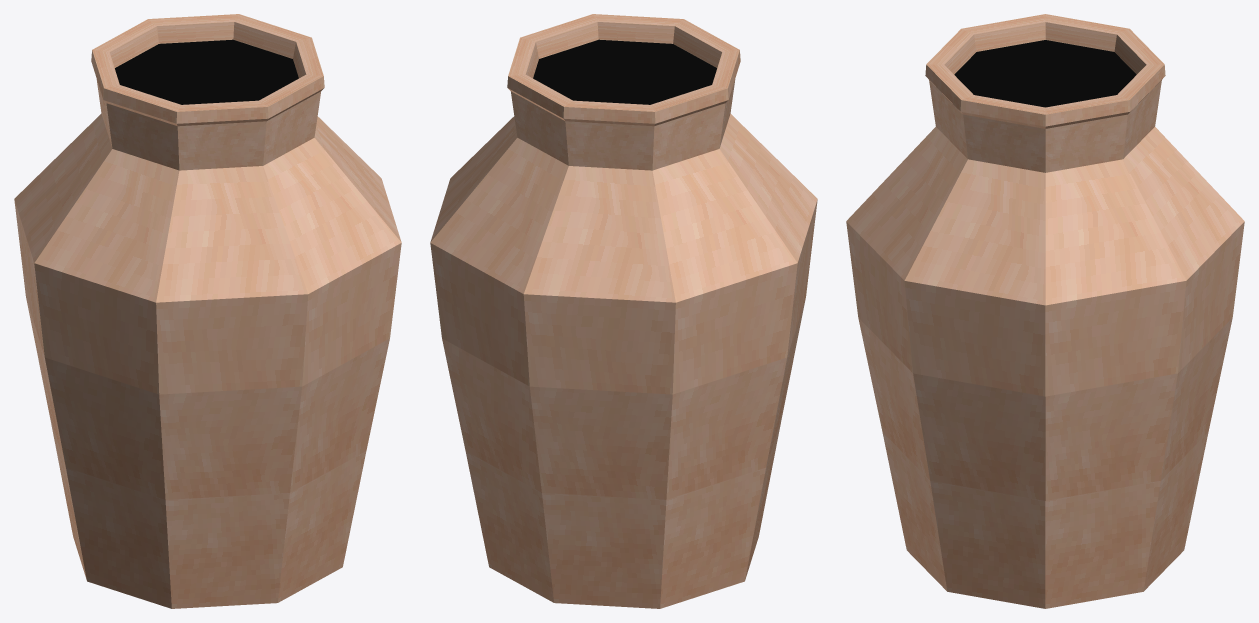
The model's file is tall_vase.obj.
The picture shows the model from 3 angles, left to right: view 1: azimuth 30°, elevation 25°; view 2: azimuth 150°, elevation 25°; view 3: azimuth 270°, elevation 25°; orthographic projection.
Parts seen in each view (by area): view 1: Tall_vase; view 2: Tall_vase; view 3: Tall_vase.
Boxes of the visible parts, x1,y1,x2,y2 form: Tall_vase: [14, 14, 401, 608]; Tall_vase: [430, 14, 817, 608]; Tall_vase: [846, 14, 1244, 608].
Bounding box in the file's own units: 0.7236 × 0.9734 × 0.7236.
